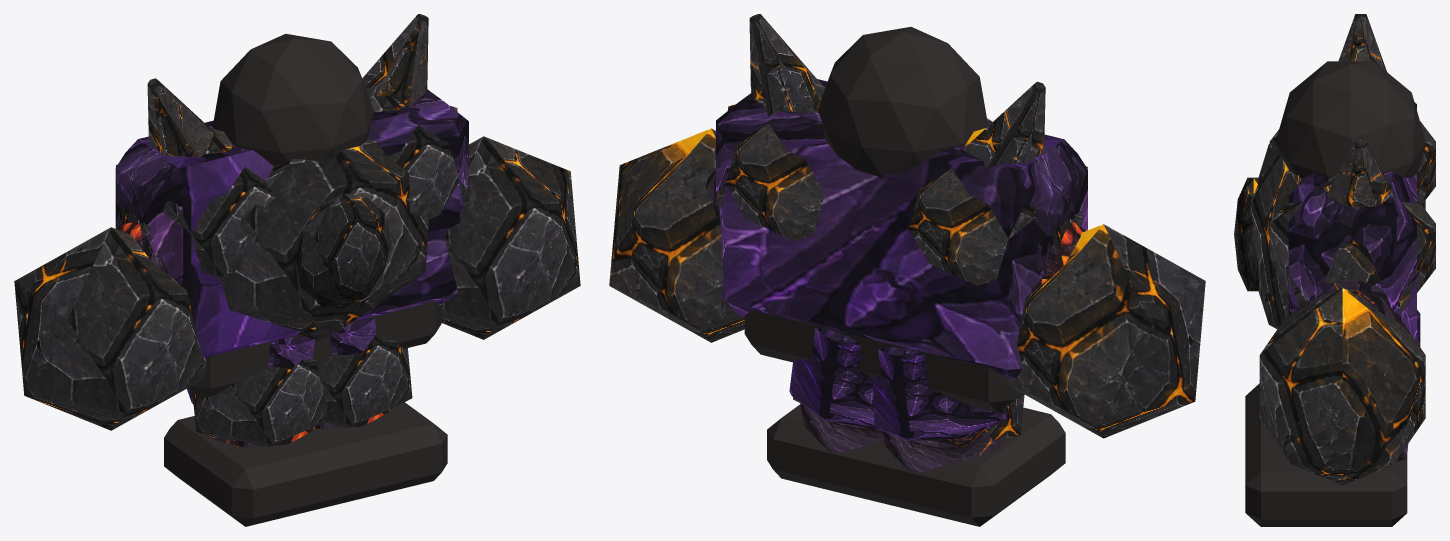
Rendered from obsidian_brute_phase1.glb.
3 views of the same model, side by side, from view 1: azimuth 30°, elevation 25°; view 2: azimuth 150°, elevation 25°; view 3: azimuth 270°, elevation 25° (orthographic). The views are drawn at different scales.
Visible parts, largest first — view 1: obsidian_brute_Low; view 2: obsidian_brute_Low; view 3: obsidian_brute_Low.
Part boxes in pixels (box(x1,y1,x2,y2)): obsidian_brute_Low: box(14, 14, 580, 526); obsidian_brute_Low: box(609, 14, 1205, 526); obsidian_brute_Low: box(1234, 14, 1435, 526).
Bounding box in the file's own units: 3.02 × 2.28 × 0.9975.
Materials: 3 (2 with a texture image).
